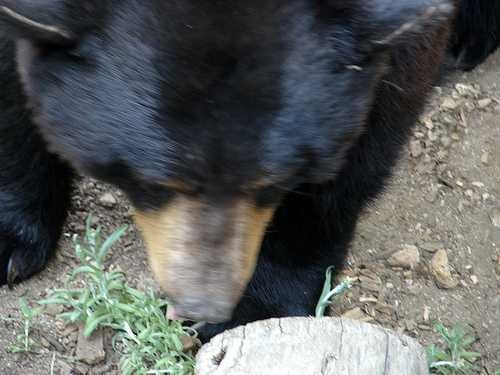bear: (141, 187, 269, 315), (341, 1, 469, 128), (1, 1, 128, 128)
